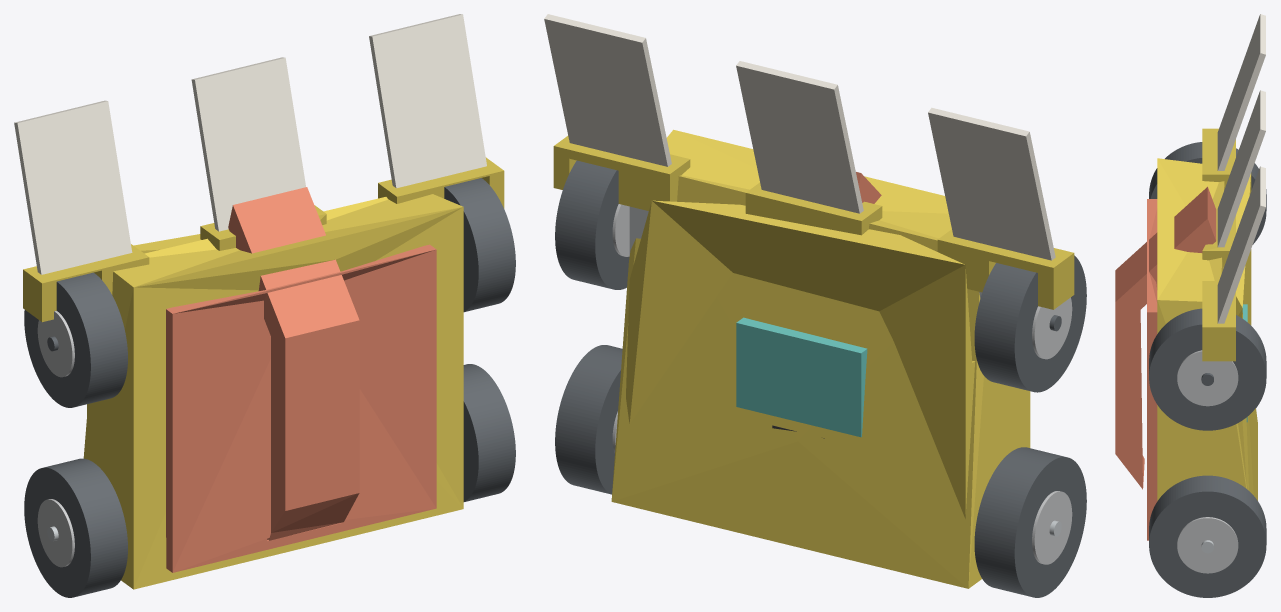
Rendered from burning_tiger.glb.
3 renders of one model, left to right at view 1: azimuth 30°, elevation 25°; view 2: azimuth 150°, elevation 25°; view 3: azimuth 270°, elevation 25°, orthographic. The views are drawn at different scales.
Visible parts, largest first — view 1: lid, chassis, arm, fork_0, fork_2, fork_1, wheel_r0, wheel_r1, wheel_l1, wheel_l0, dt_mount_fork_0, dt_mount_fork_2 (+3 smaller); view 2: chassis, fork_2, fork_1, fork_0, el_battery, wheel_r0, wheel_r1, wheel_l0, wheel_l1, dt_mount_fork_2, dt_mount_fork_0, dt_mount_fork_1 (+3 smaller); view 3: chassis, wheel_l0, arm, wheel_l1, fork_1, fork_2, fork_0, dt_hub_wheel_l0, lid, dt_hub_wheel_l1, dt_mount_fork_2, dt_mount_fork_0 (+2 smaller).
Boxes of the visible parts, <box> form: lid: <box>166,244,436,572</box>; chassis: <box>83,194,463,589</box>; arm: <box>228,187,359,540</box>; fork_0: <box>14,100,132,274</box>; fork_2: <box>369,14,486,188</box>; fork_1: <box>191,57,305,231</box>; wheel_r0: <box>24,458,127,597</box>; wheel_r1: <box>24,272,127,407</box>; wheel_l1: <box>444,178,515,312</box>; wheel_l0: <box>463,364,515,501</box>; dt_mount_fork_0: <box>23,244,149,322</box>; dt_mount_fork_2: <box>378,157,504,208</box>; chassis: <box>611,129,1030,588</box>; fork_2: <box>544,14,671,166</box>; fork_1: <box>736,61,863,213</box>; fork_0: <box>928,107,1055,260</box>; el_battery: <box>736,317,867,437</box>; wheel_r0: <box>974,447,1086,597</box>; wheel_r1: <box>974,255,1086,392</box>; wheel_l0: <box>555,345,622,494</box>; wheel_l1: <box>555,160,629,289</box>; dt_mount_fork_2: <box>553,135,690,210</box>; dt_mount_fork_0: <box>937,229,1074,309</box>; dt_mount_fork_1: <box>745,182,882,235</box>; chassis: <box>1157,158,1257,500</box>; wheel_l0: <box>1149,475,1266,597</box>; arm: <box>1115,186,1216,489</box>; wheel_l1: <box>1149,308,1266,430</box>; fork_1: <box>1217,90,1265,247</box>; fork_2: <box>1217,166,1265,323</box>; fork_0: <box>1217,14,1265,170</box>; dt_hub_wheel_l0: <box>1177,517,1238,573</box>; lid: <box>1147,199,1157,540</box>; dt_hub_wheel_l1: <box>1177,350,1238,406</box>; dt_mount_fork_2: <box>1202,281,1235,361</box>; dt_mount_fork_0: <box>1202,128,1235,186</box>.
Size of the model in its own units: 112 by 104 by 36.
